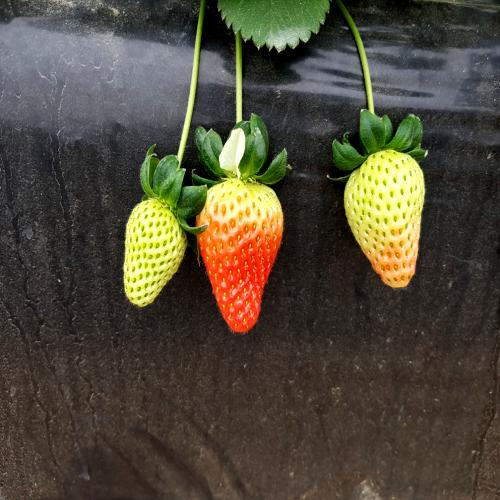partially-ripe: (199, 171, 274, 311)
unripe: (342, 156, 431, 278), (123, 191, 181, 306)
